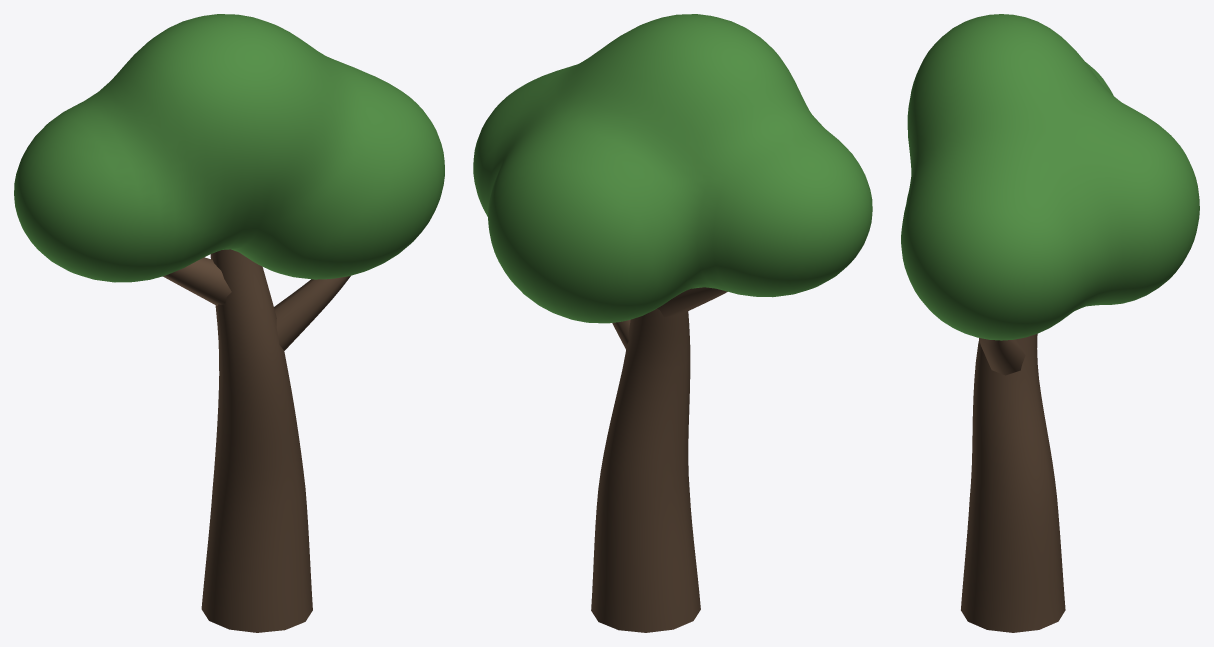
File: tree_0.glb
3 renders of one model, left to right at view 1: azimuth 30°, elevation 25°; view 2: azimuth 150°, elevation 25°; view 3: azimuth 270°, elevation 25°, orthographic. The views are drawn at different scales.
Parts seen in each view (by area): view 1: tree_canopy, tree_trunk, tree_branch_0, tree_branch_1; view 2: tree_canopy, tree_trunk, tree_branch_1; view 3: tree_canopy, tree_trunk, tree_branch_0.
Boxes of the visible parts, x1=… form: tree_canopy: x1=14, y1=14, x2=444, y2=282; tree_trunk: x1=201, y1=249, x2=312, y2=632; tree_branch_0: x1=274, y1=276, x2=350, y2=350; tree_branch_1: x1=163, y1=257, x2=231, y2=305; tree_canopy: x1=473, y1=14, x2=872, y2=323; tree_trunk: x1=591, y1=309, x2=700, y2=632; tree_branch_1: x1=657, y1=287, x2=727, y2=317; tree_canopy: x1=901, y1=14, x2=1199, y2=340; tree_trunk: x1=961, y1=334, x2=1065, y2=632; tree_branch_0: x1=979, y1=338, x2=1025, y2=375.
Size of the model in its own units: 3.43 by 5.01 by 2.4.
